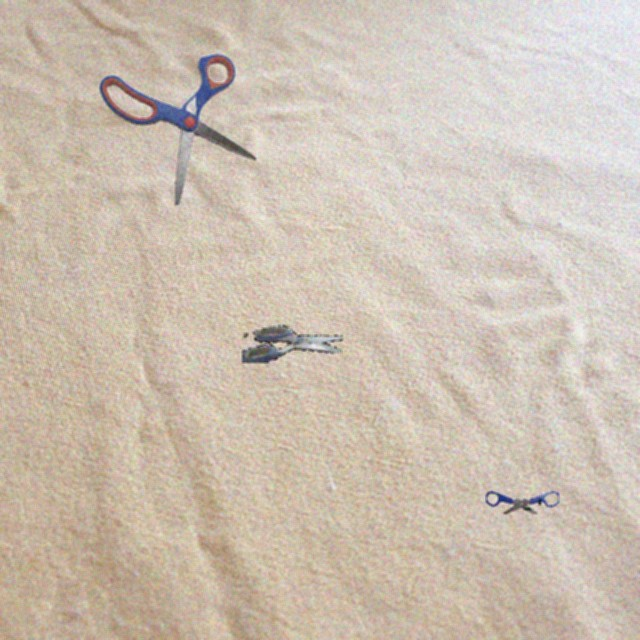scissors: (99, 54, 256, 205), (242, 325, 343, 363), (486, 491, 559, 514)
